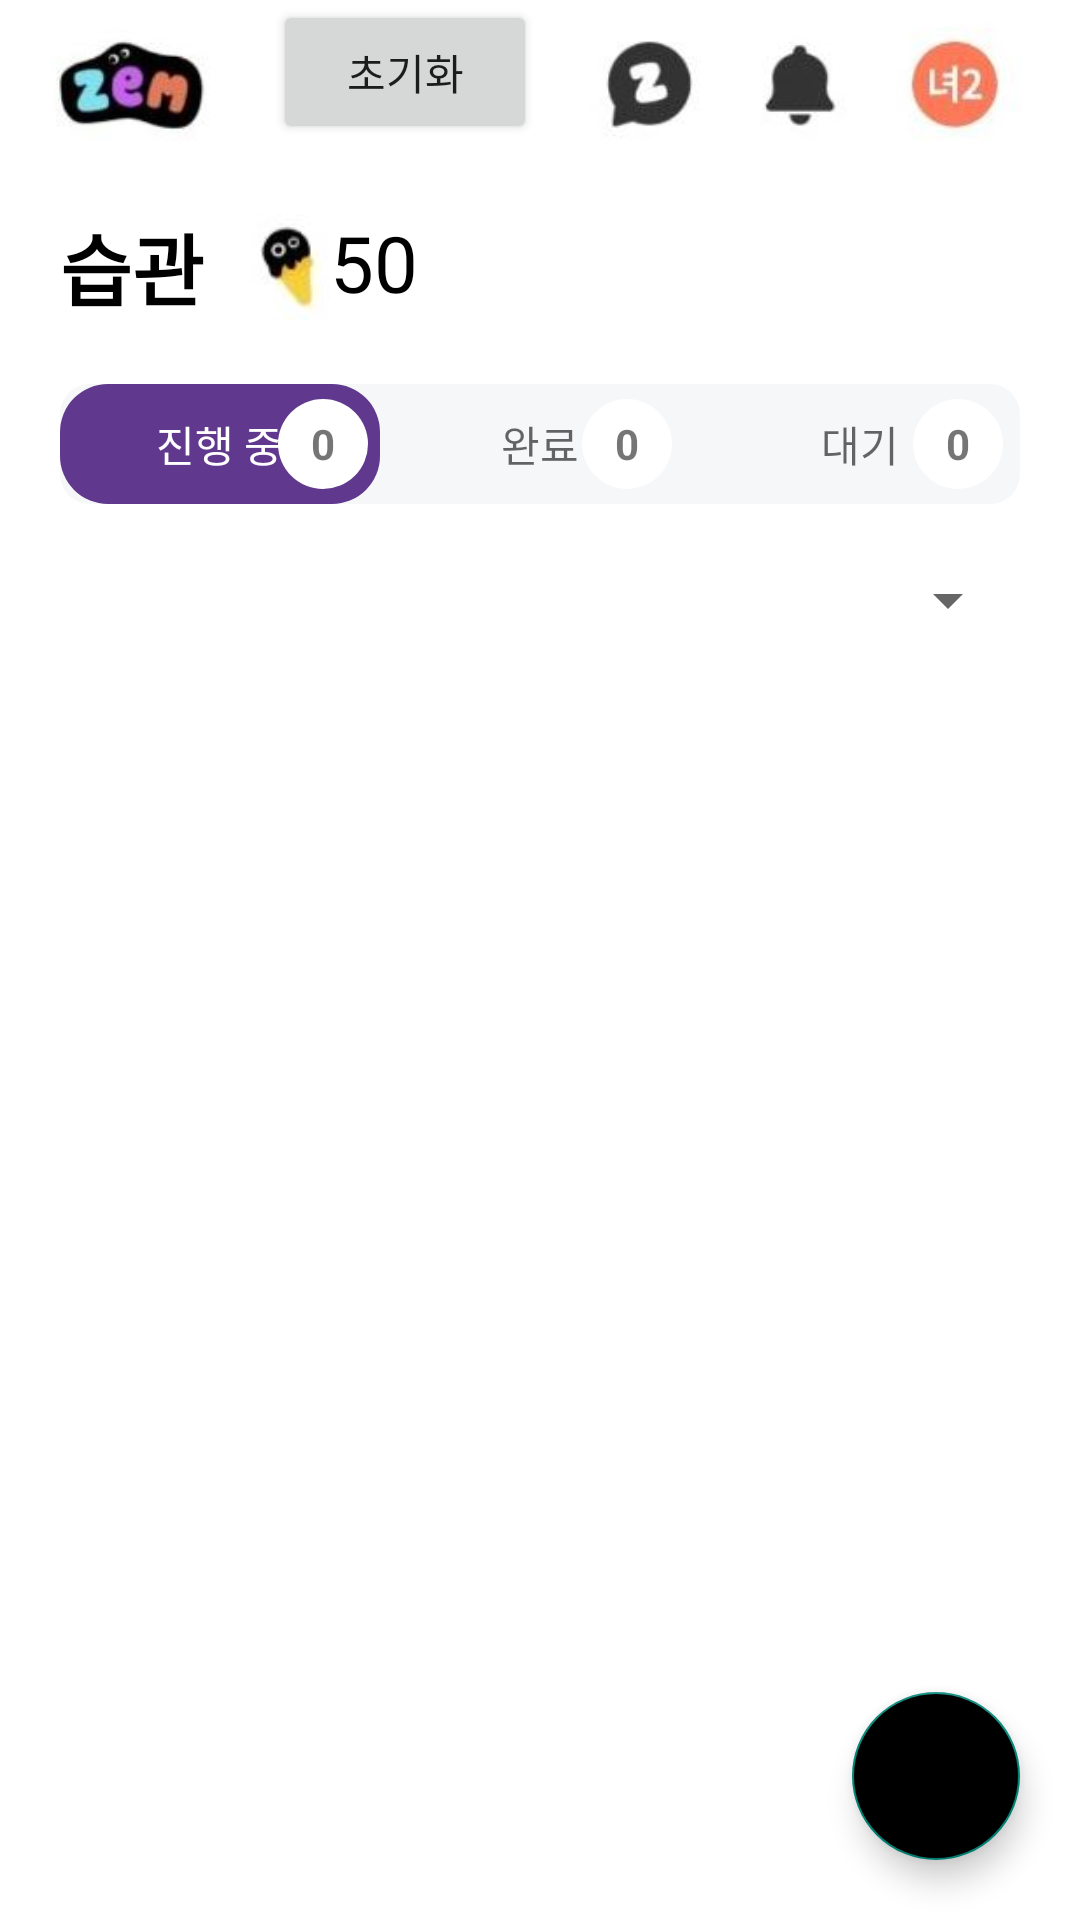

Icon click points for this 1080*1920 phone screenshot, format [x,y]:
alram: [800,85]
